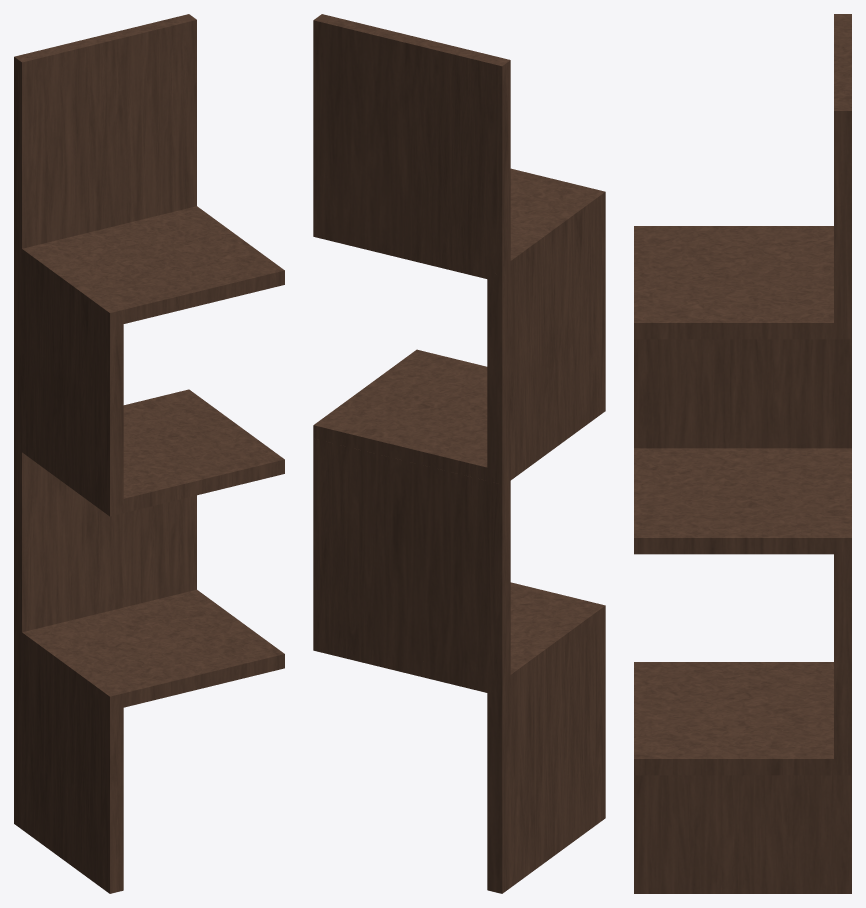
The model's file is Holder.fbx.
3 renders of one model, left to right at view 1: azimuth 30°, elevation 25°; view 2: azimuth 150°, elevation 25°; view 3: azimuth 270°, elevation 25°, orthographic. The views are drawn at different scales.
Visible parts, largest first — view 1: Holder; view 2: Holder; view 3: Holder.
Part boxes in pixels (box(x1,y1,x2,y2)): Holder: box(14, 14, 284, 893); Holder: box(313, 14, 605, 893); Holder: box(634, 14, 851, 893).
Bounding box in the file's own units: 0.5 × 2.09 × 0.4741.
